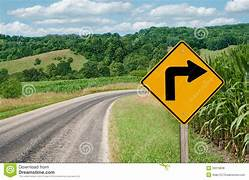right: (139, 41, 225, 125)
